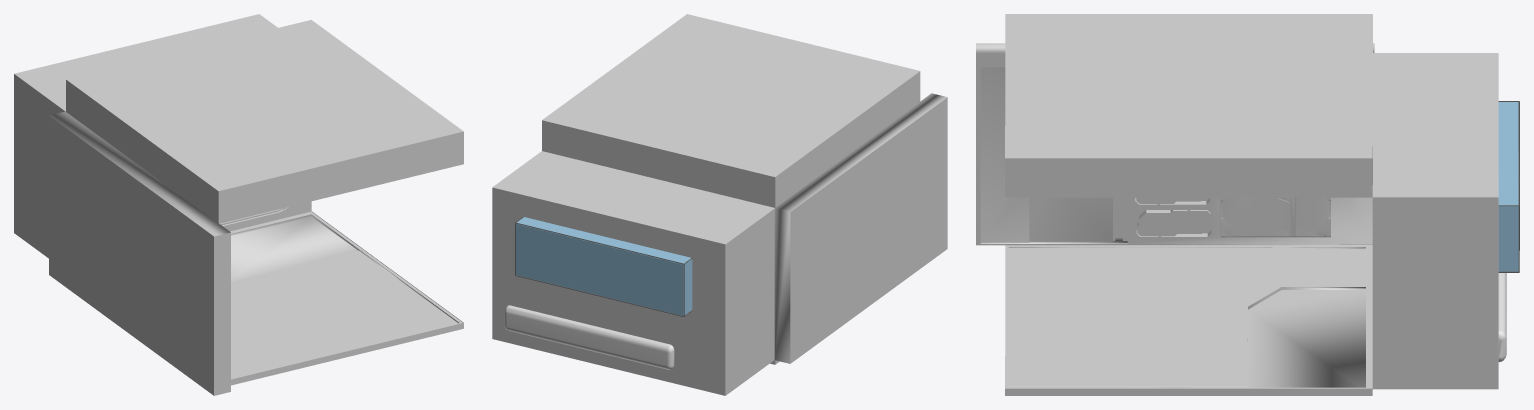
Rendered from room.fbx.
3 renders of one model, left to right at view 1: azimuth 30°, elevation 25°; view 2: azimuth 150°, elevation 25°; view 3: azimuth 270°, elevation 25°, orthographic. The views are drawn at different scales.
Parts seen in each view (by area): view 1: Ceiling, Wall.001, Floor, Wall; view 2: Ceiling, Wall, Wall.001, Window, Bed.frozen; view 3: Ceiling, Floor, Wall, Wall.001, Window, Bed.frozen.
Boxes of the visible parts, <box> form: Ceiling: <box>66,20,463,223</box>; Wall.001: <box>49,111,230,395</box>; Floor: <box>229,211,463,385</box>; Wall: <box>14,14,311,258</box>; Ceiling: <box>542,14,920,207</box>; Wall: <box>492,151,774,395</box>; Wall.001: <box>774,93,947,363</box>; Window: <box>515,216,692,316</box>; Bed.frozen: <box>504,305,674,369</box>; Ceiling: <box>1005,14,1372,197</box>; Floor: <box>1005,244,1372,395</box>; Wall: <box>1372,53,1498,389</box>; Wall.001: <box>976,43,1374,245</box>; Window: <box>1498,101,1519,272</box>; Bed.frozen: <box>1498,273,1506,362</box>.
Size of the model in its own units: 623 by 448 by 930.
